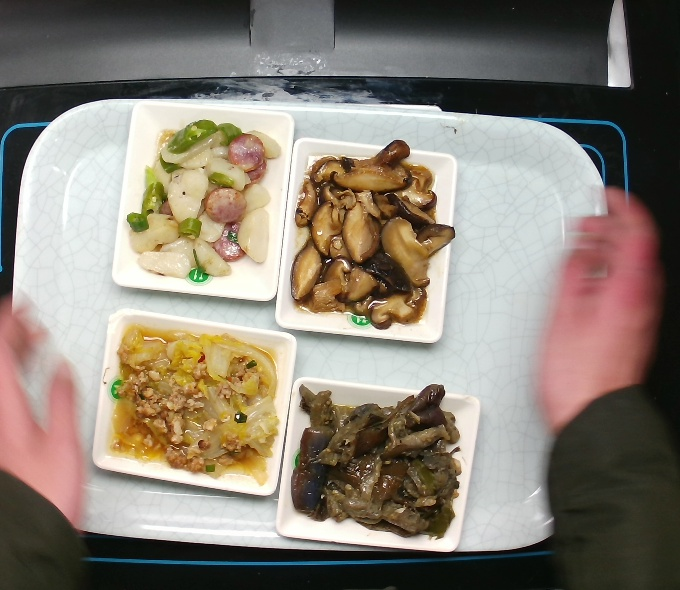wcq-MaTiGuo: (124, 117, 284, 281)
wcq-MoGu: (289, 137, 457, 332)
wcq-QieZi: (287, 380, 466, 541)
wcq-RouMoBaiCai: (111, 323, 283, 487)
